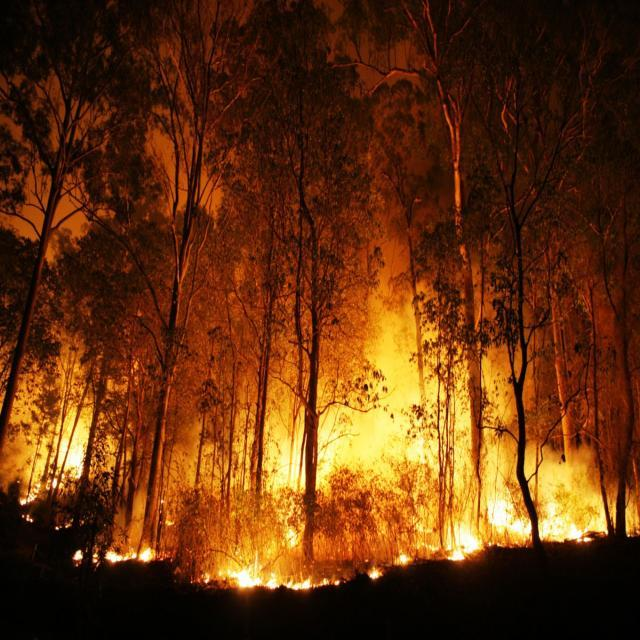Fire: (474, 488, 608, 546), (196, 547, 334, 601), (8, 413, 92, 498), (260, 412, 338, 499), (70, 532, 154, 576), (431, 513, 488, 563), (363, 558, 389, 584), (398, 546, 412, 573)
Smoke: (342, 288, 594, 480)
